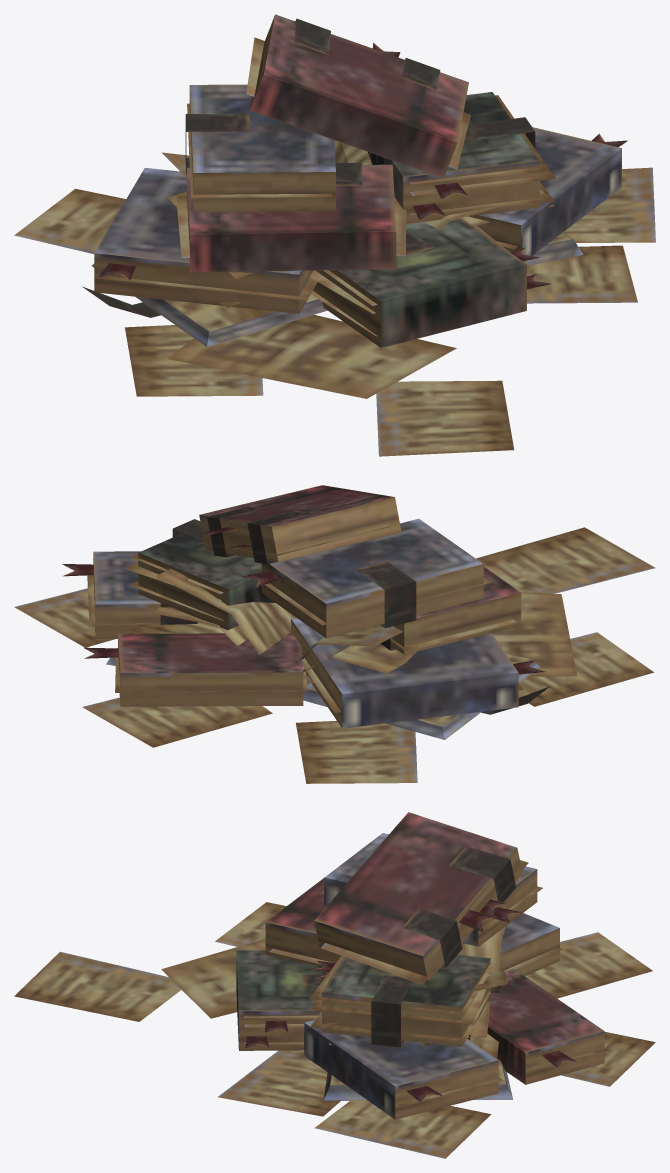
File: bfcs_book_02.FBX
The picture shows the model from 3 angles, top to bottom: view 1: azimuth 30°, elevation 25°; view 2: azimuth 150°, elevation 25°; view 3: azimuth 270°, elevation 25°; orthographic projection. The views are drawn at different scales.
Parts seen in each view (by area): view 1: bfcs_book_02; view 2: bfcs_book_02; view 3: bfcs_book_02.
Part boxes in pixels (x1,y1,x2,y2): bfcs_book_02: (14,14,655,456); bfcs_book_02: (14,485,655,783); bfcs_book_02: (14,812,655,1158).
Bounding box in the file's own units: 58.74 × 18.94 × 62.05.
